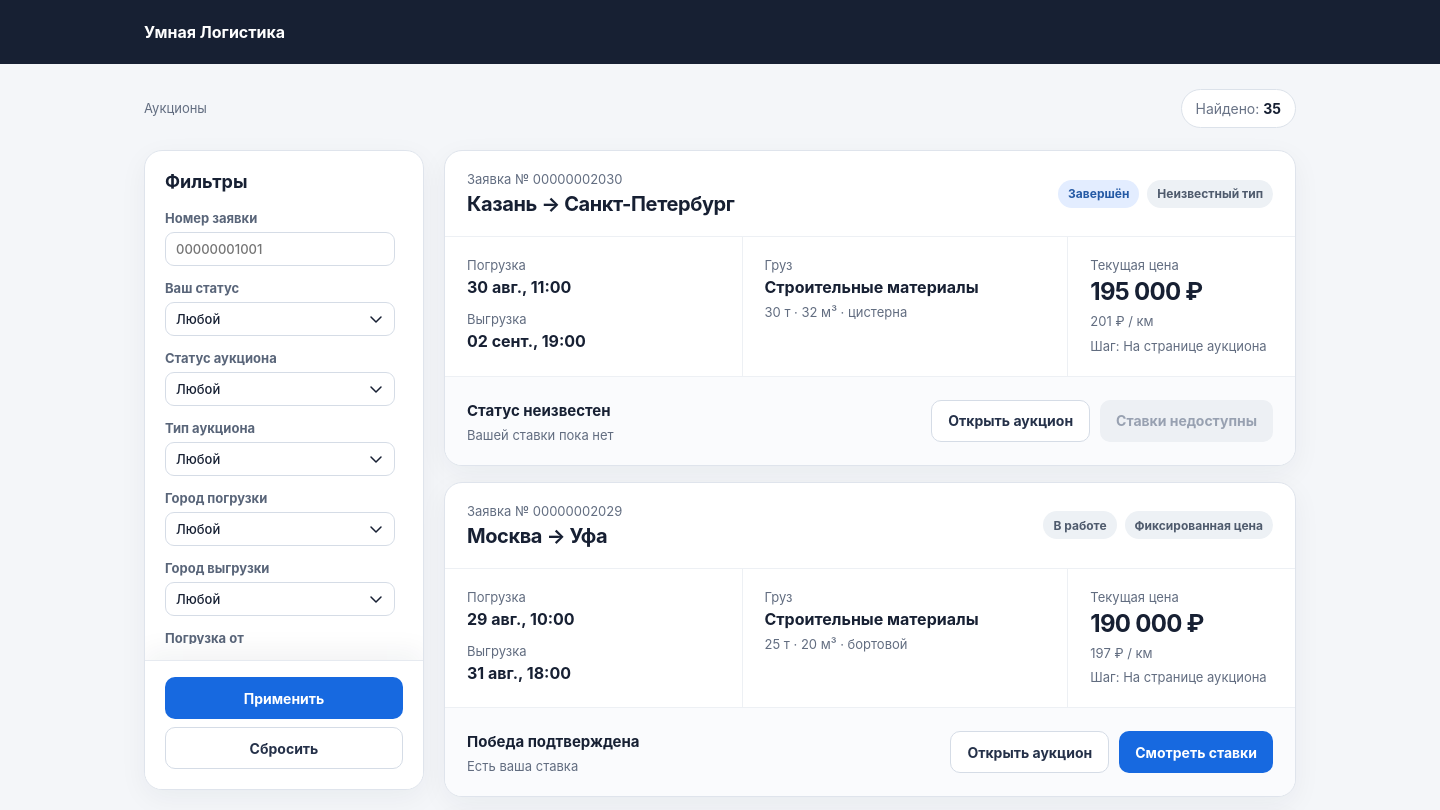
Test case: AuctionsListPage › resets applied filters and restores the default list
Expected: the text "Заявка № 00000002030" is shown, x1=467 y1=171 x2=622 y2=187
Type "00000001002" into the field labelled "Номер заявки".
click(280, 249); type("00000001002")  # box x1=165 y1=232 x2=395 y2=266
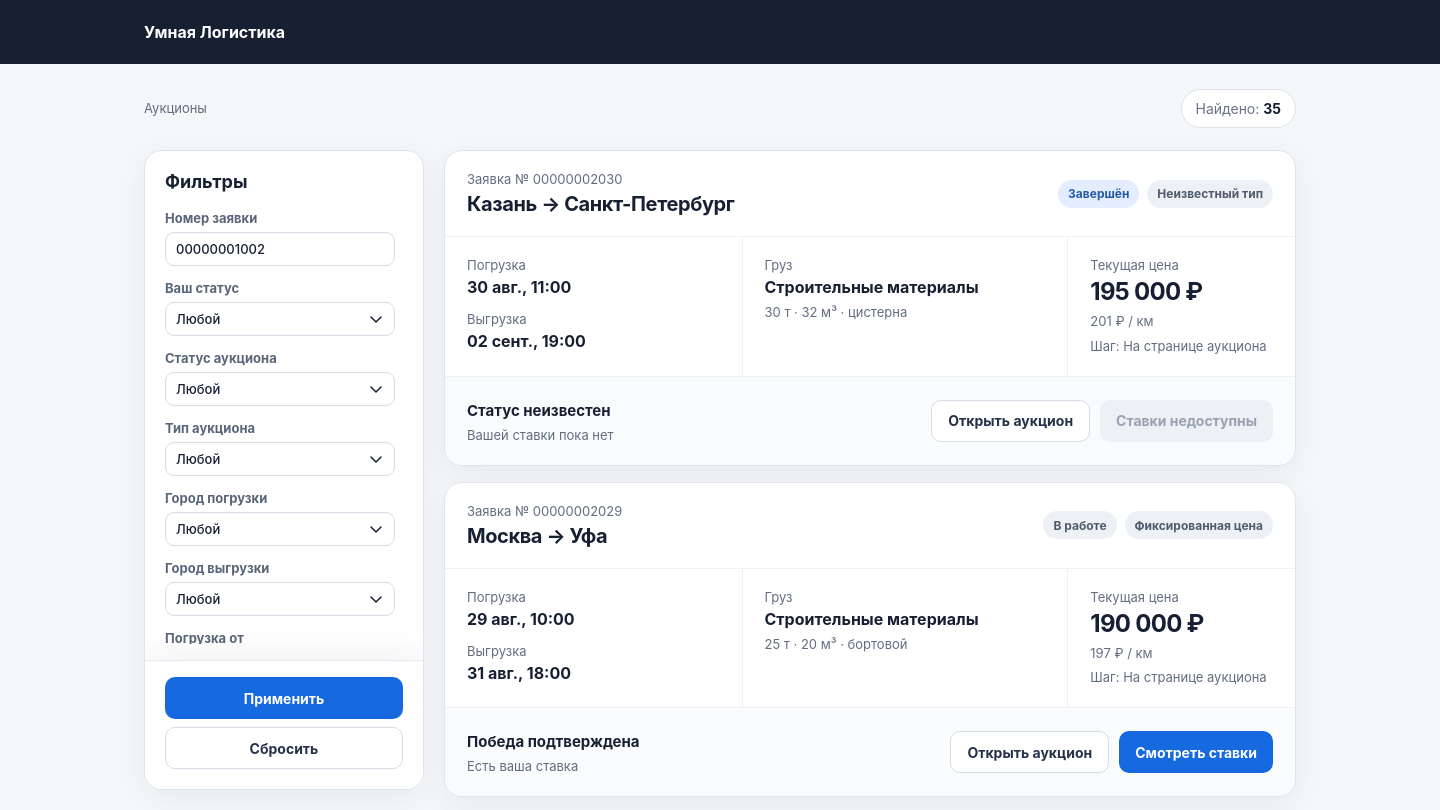
Click the button "Применить".
click(284, 698)  # box x1=165 y1=677 x2=403 y2=719
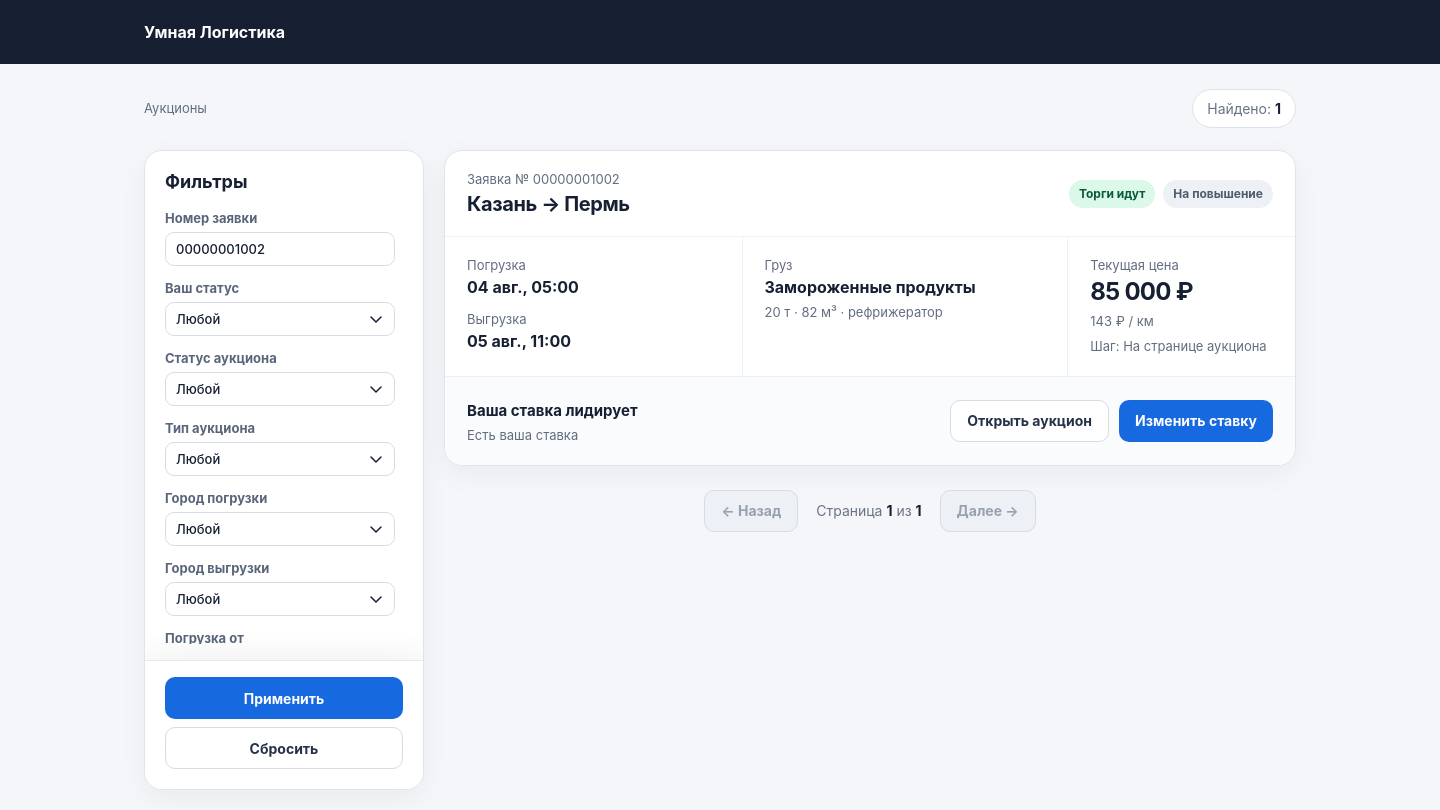
Expected: the text "Заявка № 00000001002" is shown, x1=467 y1=171 x2=630 y2=187
Click the button "Сбросить".
click(284, 748)  # box x1=165 y1=727 x2=403 y2=769
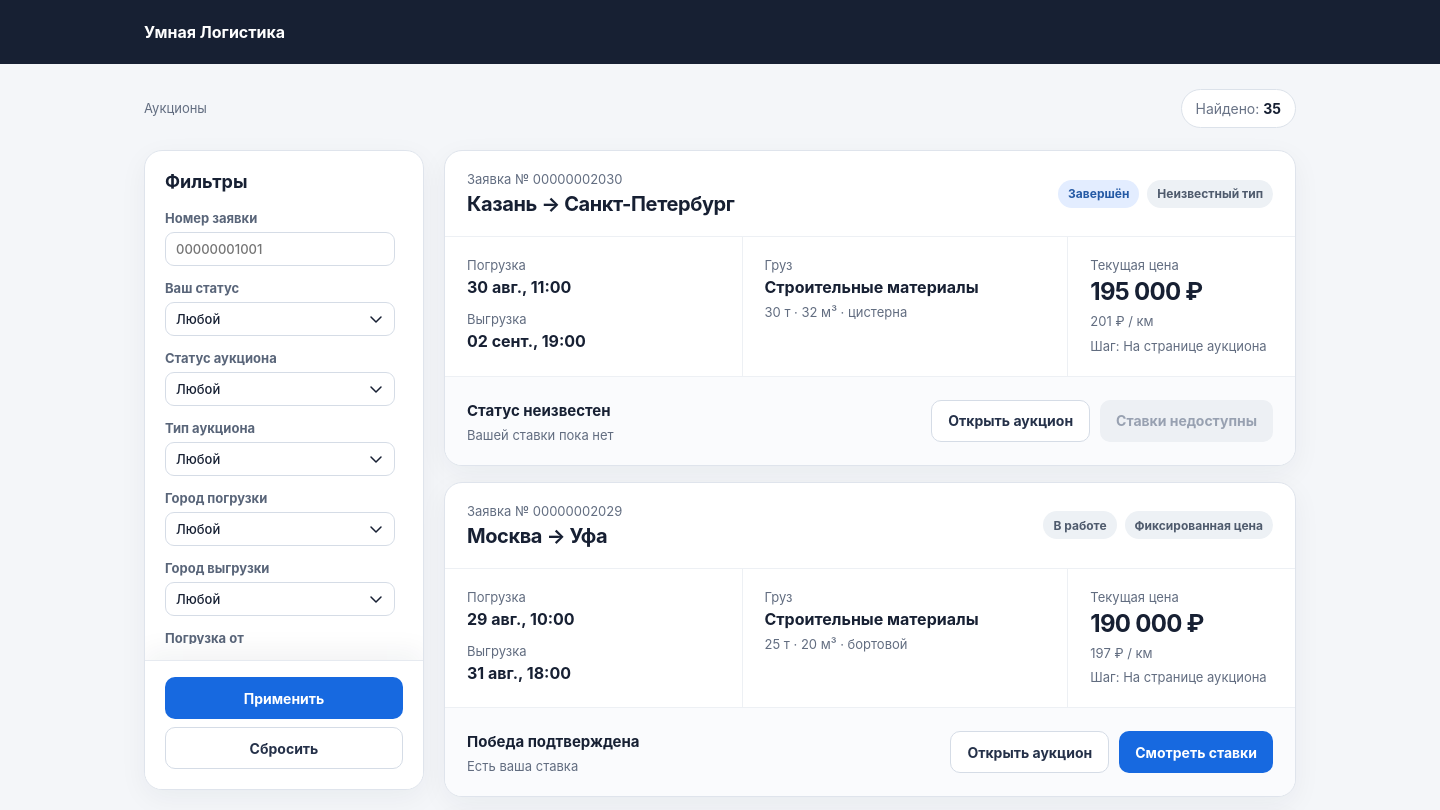
Expected: the text "Заявка № 00000002030" is shown, x1=467 y1=171 x2=622 y2=187
Expected: the field labelled "Номер заявки" is empty, x1=165 y1=232 x2=395 y2=266
